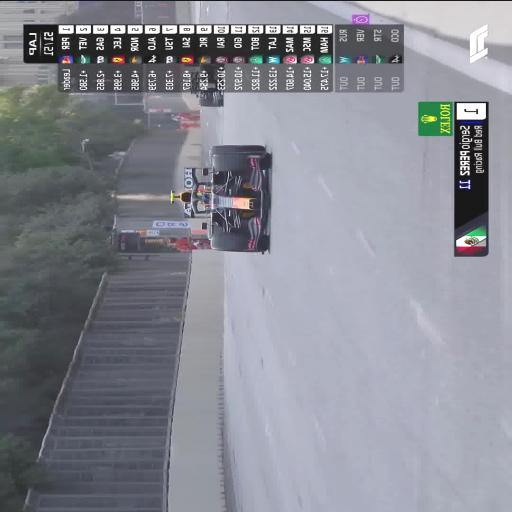f1_car: (170, 144, 270, 252), (188, 63, 223, 105)
